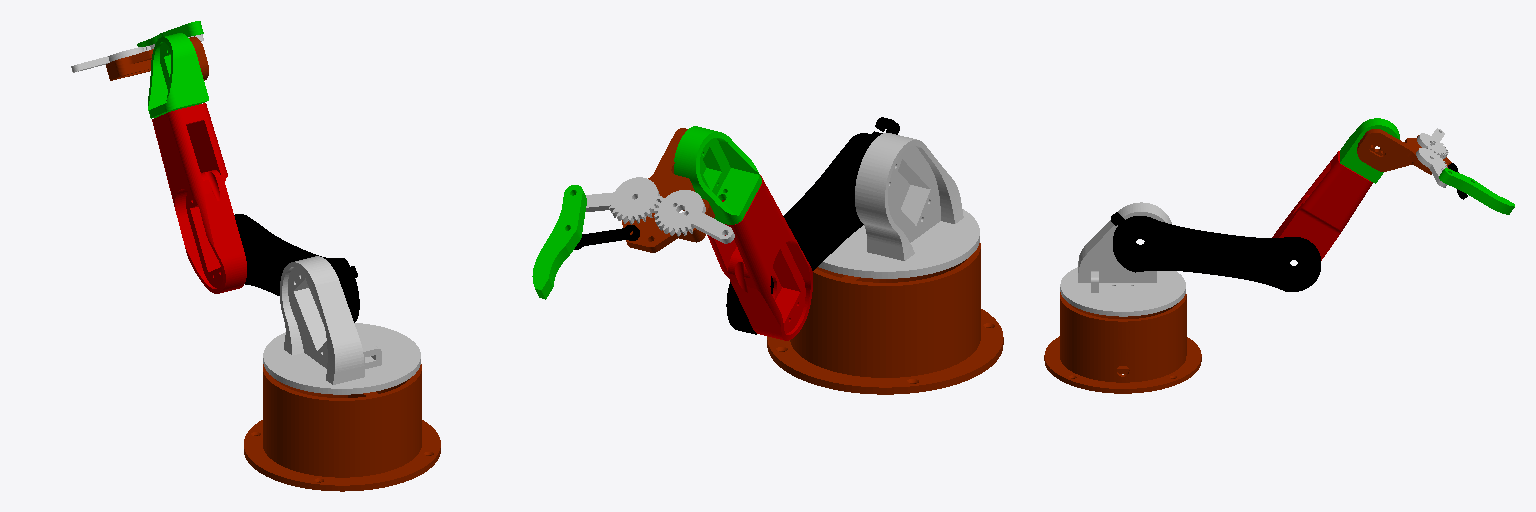
URDF robot description (ros_mani):
<?xml version="1.0"?>
<robot name="ros_mani">
	<link name="base_link">
		<visual>
			<geometry>
				<mesh filename="package://ros_manipulator_project/meshes/MeshBody1.stl" scale="0.0002 0.0002 0.0002"/>
			</geometry>
			<material name="orange" />
			<origin rpy="1.57 0 0" xyz="-0.12 0.12 0" />
		</visual>
	</link>

	<link name="mani_lid_link">
		<visual>
			<geometry>
				<mesh filename="package://ros_manipulator_project/meshes/MeshBody2.stl" scale="0.0002 0.0002 0.0002"/>
			</geometry>
			<material name="white" />
			<origin rpy="1.57 0 0" xyz="-0.096 0.096 0" />
		</visual>
	</link>

	<link name="mani_arm01_link">
		<visual>
			<geometry>
				<mesh filename="package://ros_manipulator_project/meshes/MeshBody3.stl" scale="0.0002 0.0002 0.0002"/>
			</geometry>
			<material name="black" />
			<origin rpy="0 0 -0.15" xyz="-0.062 -0.042 0" />
		</visual>
	</link>

	<link name="mani_arm02_link">
		<visual>
			<geometry>
				<mesh filename="package://ros_manipulator_project/meshes/MeshBody4.stl" scale="0.0002 0.0002 0.0002"/>
			</geometry>
			<material name="red" />
			<origin rpy="0 0 0" xyz="-0.038 -0.052 -0.012" />
		</visual>
	</link>

	<link name="mani_arm03_link">
		<visual>
			<geometry>
				<mesh filename="package://ros_manipulator_project/meshes/MeshBody5.stl" scale="0.0002 0.0002 0.0002"/>
			</geometry>
			<material name="green" />
			<origin rpy="-1.57 0 0" xyz="-0.024 -0.028 0" />
		</visual>
	</link>

	<link name="mani_gripper_base_link">
		<visual>
			<geometry>
				<mesh filename="package://ros_manipulator_project/meshes/MeshBody6.stl" scale="0.0002 0.0002 0.0002"/>
			</geometry>
			<material name="orange" />
			<origin rpy="-1.57 1.57 -1.57" xyz="-0.0262 -0.028 0.025" />
		</visual>
	</link>

	<link name="mani_left_gear_link">
		<visual>
			<geometry>
				<mesh filename="package://ros_manipulator_project/meshes/MeshBody8.stl" scale="0.0002 0.0002 0.0002"/>
			</geometry>
			<material name="white" />
			<origin rpy="1.57 3.1416 -1.2" xyz="0.052 -0.054 0" />
		</visual>
	</link>

	<link name="mani_right_gear_link">
		<visual>
			<geometry>
				<mesh filename="package://ros_manipulator_project/meshes/MeshBody7.stl" scale="0.0002 0.0002 0.0002"/>
			</geometry>
			<material name="white" />
			<origin rpy="0 -1.2 0" xyz="0.018 0 -0.038" />
		</visual>
	</link>

	<link name="mani_left_gear_support_link">
		<visual>
			<geometry>
				<mesh filename="package://ros_manipulator_project/meshes/MeshBody9.stl" scale="0.0002 0.0002 0.0002"/>
			</geometry>
			<material name="black" />
			<origin rpy="1.57 3.1416 1.84" xyz="-0.01 0.005 0" />
		</visual>
	</link>

	<link name="mani_right_gear_support_link">
		<visual>
			<geometry>
				<mesh filename="package://ros_manipulator_project/meshes/MeshBody10.stl" scale="0.0002 0.0002 0.0002"/>
			</geometry>
			<material name="black" />
			<origin rpy="0 -1.2 -0.3" xyz="0.0045 0 -0.01" />
		</visual>
	</link>

	<link name="mani_left_gripper_link">
		<visual>
			<geometry>
				<mesh filename="package://ros_manipulator_project/meshes/MeshBody11.stl" scale="0.0002 0.0002 0.0002"/>
			</geometry>
			<material name="red" />
			<origin rpy="0 1.57 3.1416" xyz="0.12 0.01 0.002" />
		</visual>
	</link>

	<link name="mani_right_gripper_link">
		<visual>
			<geometry>
				<mesh filename="package://ros_manipulator_project/meshes/MeshBody12.stl" scale="0.0002 0.0002 0.0002"/>
			</geometry>
			<material name="green" />
			<origin rpy="3.1416 -1.57 3.1416" xyz="0.1213 -0.01 -0.015" />
		</visual>
	</link>

	<joint name="base_joint" type="revolute">
		<parent link="base_link" />
		<child link="mani_lid_link" />
		<axis xyz="0 0 1" />
		<limit effort="1000.0" lower="0.0" upper="3.1416" velocity="1.0" />
		<origin rpy="0 0 0" xyz="0 0 0.12" />
	</joint>

	<joint name="lid_joint" type="revolute">
		<parent link="mani_lid_link" />
		<child link="mani_arm01_link" />
		<axis xyz="0 0 1" />
		<limit effort="1000.0" lower="0.0" upper="3.1416" velocity="1.0" />
		<origin rpy="0 1.57 0" xyz="-0.007 0.025 0.083" />
	</joint>

	<joint name="arm01_joint" type="revolute">
		<parent link="mani_arm01_link" />
		<child link="mani_arm02_link" />
		<axis xyz="0 0 1" />
		<limit effort="1000.0" lower="0.0" upper="3.1416" velocity="1.0" />
		<origin rpy="0 3.1416 1" xyz="0.0335 0.238 0" />
	</joint>

	<joint name="arm02_joint" type="revolute">
		<parent link="mani_arm02_link" />
		<child link="mani_arm03_link" />
		<axis xyz="0 0 1" />
		<limit effort="1000.0" lower="0.0" upper="3.1416" velocity="1.0" />
		<origin rpy="1.57 0 0" xyz="-0.01 0.18 0.015" />
	</joint>

	<joint name="arm03_joint" type="revolute">
		<parent link="mani_arm03_link" />
		<child link="mani_gripper_base_link" />
		<axis xyz="0 0 1" />
		<limit effort="1000.0" lower="0.0" upper="3.1416" velocity="1.0" />
		<origin rpy="1.57 3.1416 0" xyz="0.01 -0.03 -0.055" />
	</joint>

	<joint name="gripper_base_joint" type="revolute">
		<parent link="mani_gripper_base_link" />
		<child link="mani_left_gear_link" />
		<axis xyz="0 0 1" />
		<limit effort="1000.0" lower="0.0" upper="1.3" velocity="1.0" />
		<origin rpy="1.57 0 0" xyz="0.08 0.028 -0.04" />
	</joint>

	<joint name="sub_gripper_base_joint" type="revolute">
		<parent link="mani_gripper_base_link" />
		<child link="mani_right_gear_link" />
		<mimic joint="gripper_base_joint" />
		<axis xyz="0 1 0" />
		<limit effort="1000.0" lower="0.0" upper="1.3" velocity="1.0" />
		<origin rpy="0 0 0" xyz="0.077 0.028 0.015" />
	</joint>

	<joint name="gear_support_joint" type="revolute">
		<parent link="mani_gripper_base_link" />
		<child link="mani_left_gear_support_link" />
		<mimic joint="gripper_base_joint" />
		<axis xyz="0 0 1" />
		<limit effort="1000.0" lower="0.0" upper="1.3" velocity="1.0" />
		<origin rpy="1.57 0 0" xyz="0.118 0.028 -0.021" />
	</joint>

	<joint name="sub_gear_support_joint" type="revolute">
		<parent link="mani_gripper_base_link" />
		<child link="mani_right_gear_support_link" />
		<mimic joint="gear_support_joint" />
		<axis xyz="0 1 0" />
		<limit effort="1000.0" lower="0.0" upper="1.3" velocity="1.0" />
		<origin rpy="0 0 0" xyz="0.118 0.028 -0.0005" />
	</joint>

	<joint name="gripper_joint" type="revolute">
		<parent link="mani_left_gear_link" />
		<child link="mani_left_gripper_link" />
		<mimic joint="gripper_base_joint" />
		<axis xyz="0 0 -1" />
		<limit effort="1000.0" lower="0.0" upper="1.3" velocity="1.0" />
		<origin rpy="0 0 0.42" xyz="0.015 -0.06 -0.01" />
	</joint>

	<joint name="sub_gripper_joint" type="revolute">
		<parent link="mani_right_gear_link" />
		<child link="mani_right_gripper_link" />
		<mimic joint="gripper_joint" />
		<axis xyz="0 0 1" />
		<limit effort="1000.0" lower="0.0" upper="1.3" velocity="1.0" />
		<origin rpy="1.57 0.32 0" xyz="0.023 0.01 0.057" />
	</joint>

	<material name="red">
		<color rgba="0.8 0 0 1" />
	</material>
	<material name="green">
		<color rgba="0 0.8 0 1" />
	</material>
	<material name="orange">
		<color rgba="0.57 0.17 0.0 1" />
	</material>
	<material name="white">
		<color rgba="0.8 0.8 0.8 1" />
	</material>
	<material name="black">
		<color rgba="0 0 0 1" />
	</material>
</robot>

--- Facts derived from the render (not from the file) ---
The picture shows the robot from 3 angles, left to right: view 1: azimuth 30°, elevation 25°; view 2: azimuth 150°, elevation 25°; view 3: azimuth 270°, elevation 25°; orthographic projection.
Robot: ros_mani — 12 links, 11 joints (11 revolute); root link base_link; default pose: all joints at 0.
Links seen in each view (by area): view 1: base_link, mani_lid_link, mani_arm02_link, mani_arm01_link, mani_arm03_link, mani_gripper_base_link; view 2: base_link, mani_lid_link, mani_arm02_link, mani_arm01_link, mani_arm03_link, mani_right_gripper_link, mani_gripper_base_link, mani_left_gear_link, mani_right_gear_link, mani_right_gear_support_link; view 3: base_link, mani_arm01_link, mani_lid_link, mani_arm02_link, mani_gripper_base_link, mani_arm03_link, mani_right_gripper_link, mani_right_gear_link.
Boxes of the visible links, x1=… form: base_link: x1=244, y1=364, x2=440, y2=491; mani_lid_link: x1=263, y1=256, x2=420, y2=394; mani_arm02_link: x1=152, y1=103, x2=246, y2=293; mani_arm01_link: x1=234, y1=214, x2=359, y2=322; mani_arm03_link: x1=148, y1=33, x2=208, y2=118; mani_gripper_base_link: x1=106, y1=36, x2=208, y2=80; base_link: x1=767, y1=243, x2=1003, y2=394; mani_lid_link: x1=818, y1=133, x2=979, y2=278; mani_arm02_link: x1=707, y1=175, x2=812, y2=340; mani_arm01_link: x1=726, y1=117, x2=899, y2=334; mani_arm03_link: x1=674, y1=126, x2=761, y2=224; mani_right_gripper_link: x1=532, y1=185, x2=586, y2=299; mani_gripper_base_link: x1=622, y1=128, x2=714, y2=252; mani_left_gear_link: x1=654, y1=190, x2=734, y2=243; mani_right_gear_link: x1=586, y1=177, x2=662, y2=224; mani_right_gear_support_link: x1=574, y1=225, x2=639, y2=249; base_link: x1=1044, y1=292, x2=1201, y2=393; mani_arm01_link: x1=1111, y1=212, x2=1320, y2=291; mani_lid_link: x1=1060, y1=202, x2=1185, y2=316; mani_arm02_link: x1=1272, y1=151, x2=1372, y2=260; mani_gripper_base_link: x1=1357, y1=129, x2=1451, y2=174; mani_arm03_link: x1=1340, y1=118, x2=1399, y2=183; mani_right_gripper_link: x1=1439, y1=168, x2=1514, y2=214; mani_right_gear_link: x1=1416, y1=148, x2=1447, y2=187.
Bounding box of the posed robot: 0.2425 × 0.727 × 0.4031 m (x, y, z).
10 mesh visuals loaded from 12 distinct referenced files (10 binary STL); not drawn: 2 (reference not matched to a file when rendering).